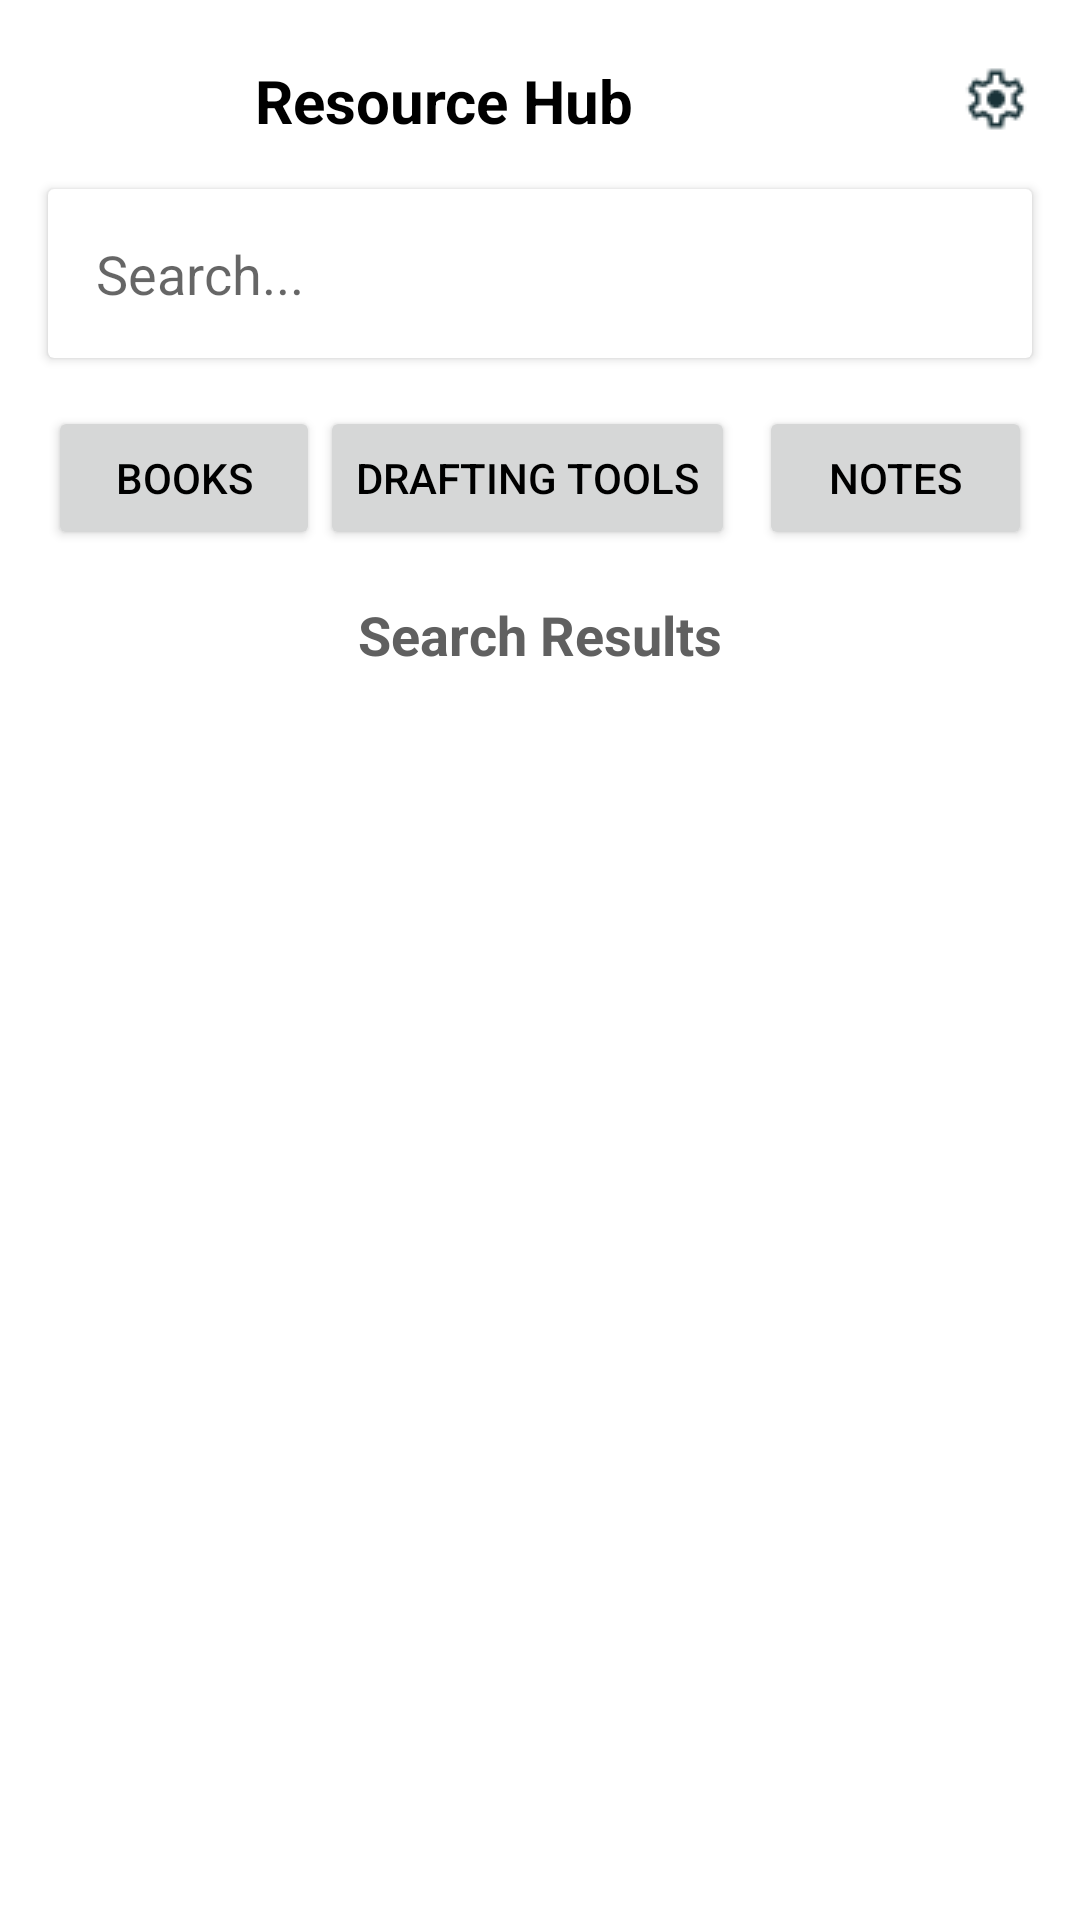

Where to tap for icons on this 1080px×1920px app screen, as point (x, y):
Settings Icon: point (996, 99)
